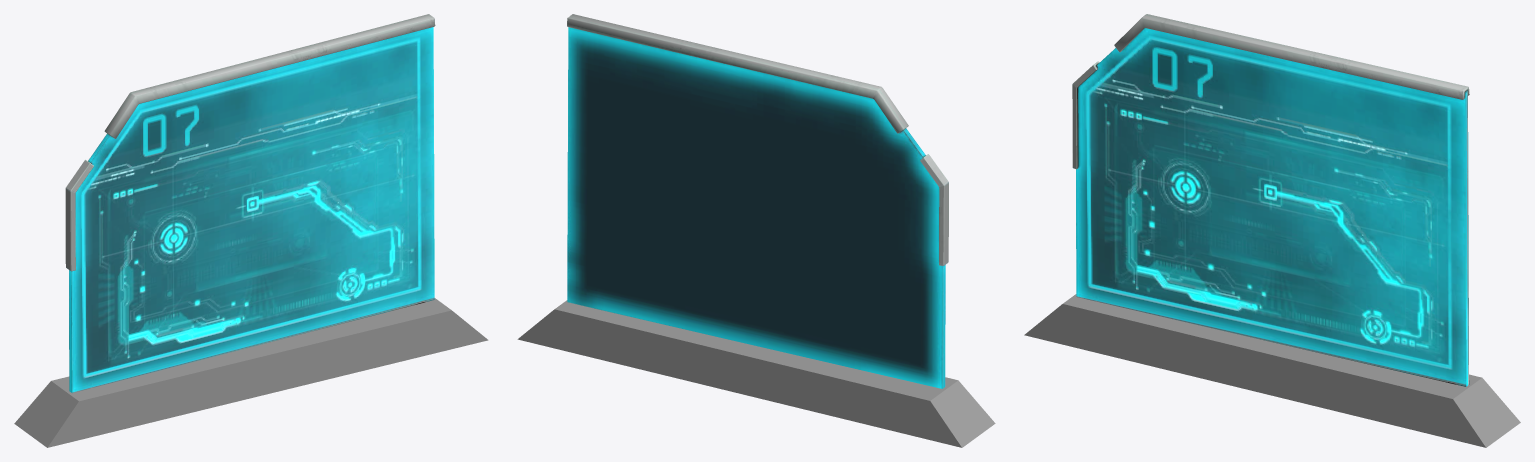
The model's file is Obstaculo_MuroCristal.fbx.
3 renders of one model, left to right at view 1: azimuth 30°, elevation 25°; view 2: azimuth 150°, elevation 25°; view 3: azimuth 330°, elevation 25°, orthographic. The views are drawn at different scales.
Parts seen in each view (by area): view 1: MuroLaser; view 2: MuroLaser; view 3: MuroLaser.
Part boxes in pixels (left/top/right/bottom): MuroLaser: left=14, top=14, right=488, bottom=447; MuroLaser: left=517, top=14, right=995, bottom=447; MuroLaser: left=1024, top=14, right=1520, bottom=447.
Size of the model in its own units: 453 by 314 by 58.84.
2 materials, 1 textured.
